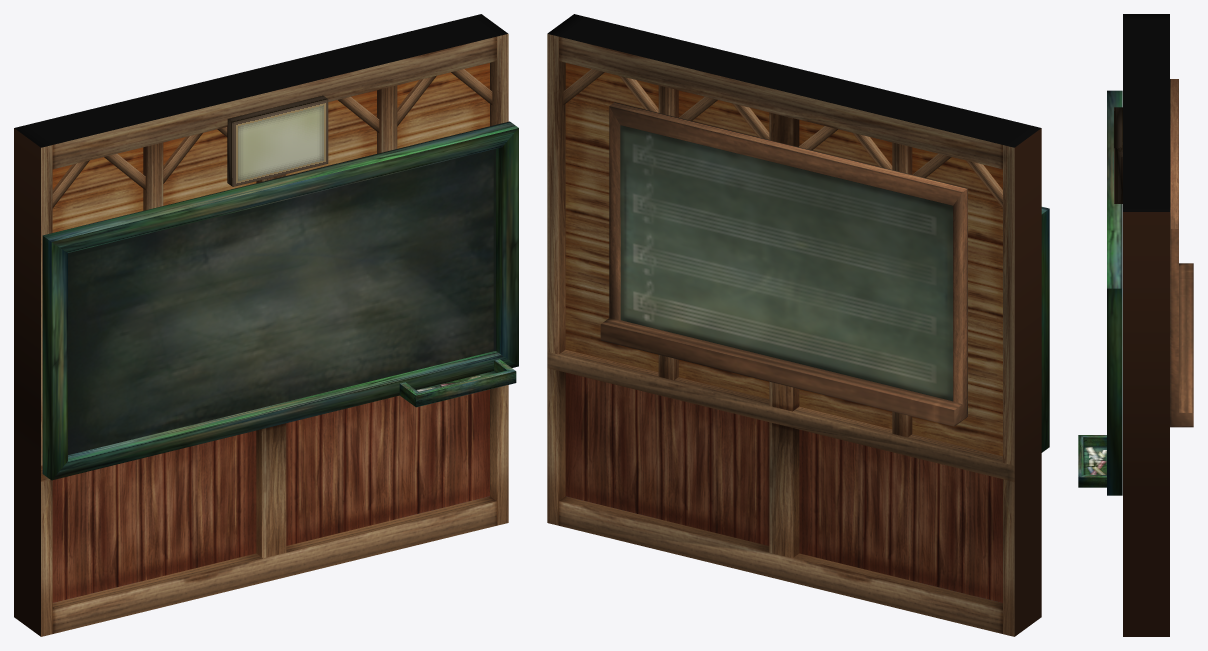
Rendered from a_SWGiall01B_03.glb.
3 renders of one model, left to right at view 1: azimuth 30°, elevation 25°; view 2: azimuth 150°, elevation 25°; view 3: azimuth 270°, elevation 25°, orthographic. The views are drawn at different scales.
Visible parts, largest first — view 1: a_SWGiall01B_03; view 2: a_SWGiall01B_03; view 3: a_SWGiall01B_03.
Part boxes in pixels (x1=…): a_SWGiall01B_03: x1=14, y1=14, x2=518, y2=636; a_SWGiall01B_03: x1=547, y1=14, x2=1049, y2=636; a_SWGiall01B_03: x1=1078, y1=14, x2=1193, y2=636.
Bounding box in the file's own units: 3.01 × 3 × 0.7368.
Materials: 7 (7 with a texture image).
